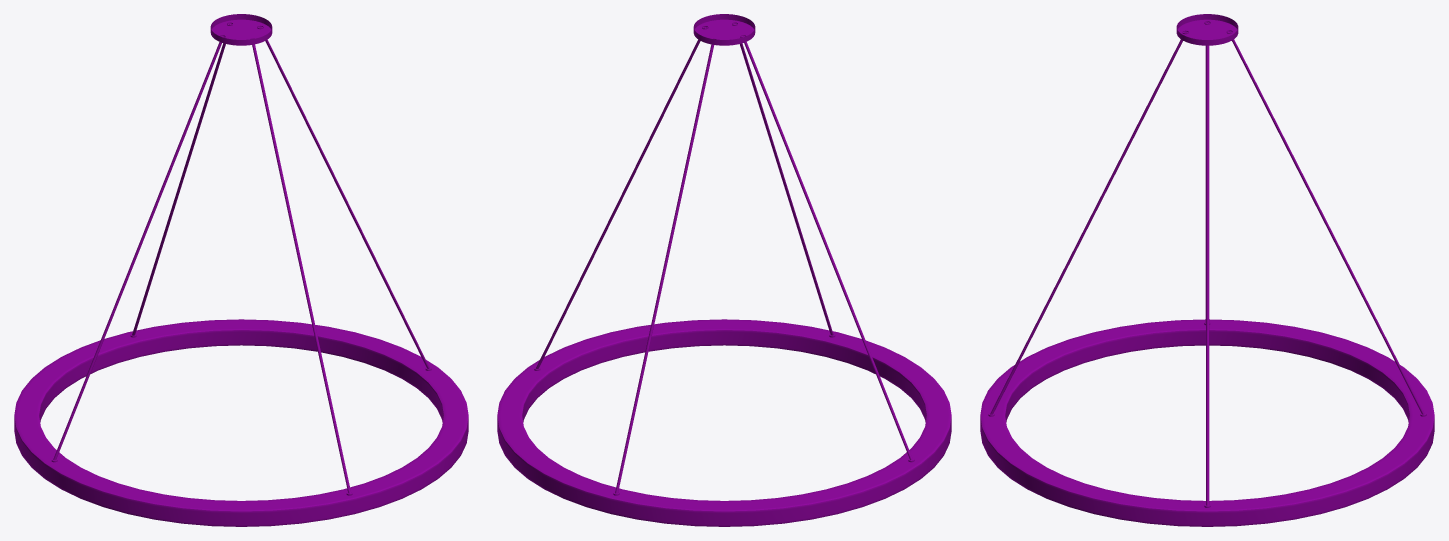
Rendered from Modern+Chandelier+02.FBX.
3 renders of one model, left to right at view 1: azimuth 30°, elevation 25°; view 2: azimuth 150°, elevation 25°; view 3: azimuth 270°, elevation 25°, orthographic.
Parts seen in each view (by area): view 1: Box002; view 2: Box002; view 3: Box002.
Boxes of the visible parts, x1,y1,x2,y2 form: Box002: [14, 14, 468, 526]; Box002: [497, 14, 951, 526]; Box002: [980, 14, 1434, 526].
Bounding box in the file's own units: 56.99 × 55.91 × 56.99.
